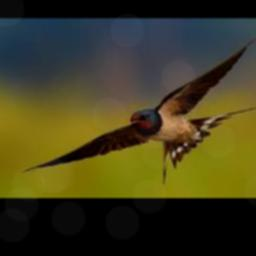Swallow: (21, 36, 256, 184)
